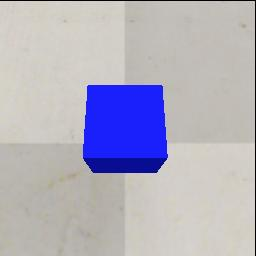box: (82, 84, 168, 173)
